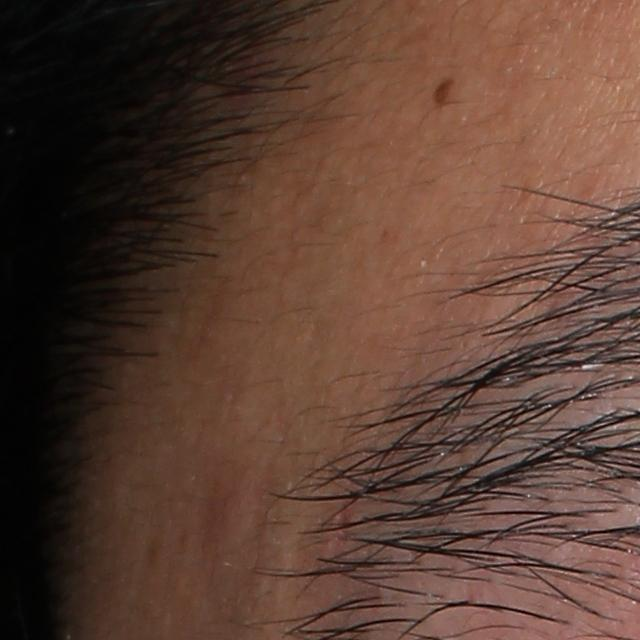nevus: (429, 75, 457, 116)
